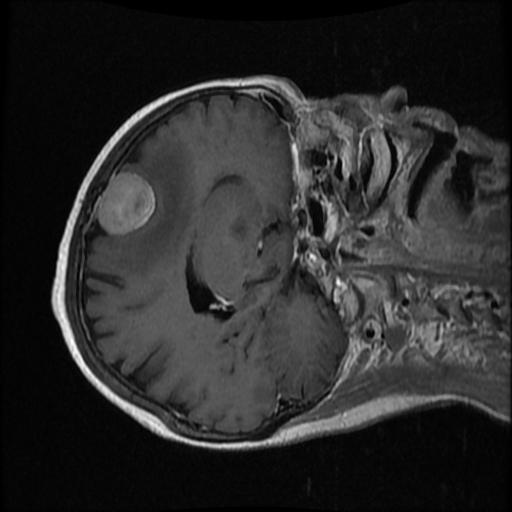meningioma: (98, 173, 154, 233)
